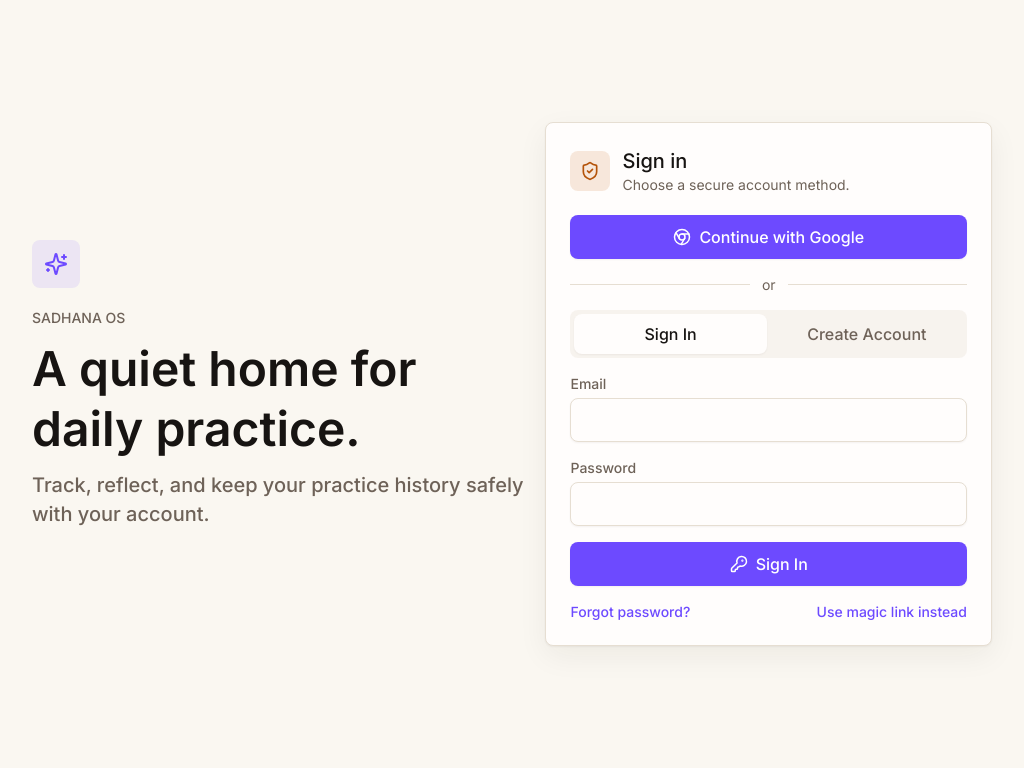
Test: AuthScreen › creates an email/password account and asks for email confirmation
Click the button "Create Account" at x=867, y=334, box x1=771 y1=314 x2=963 y2=354
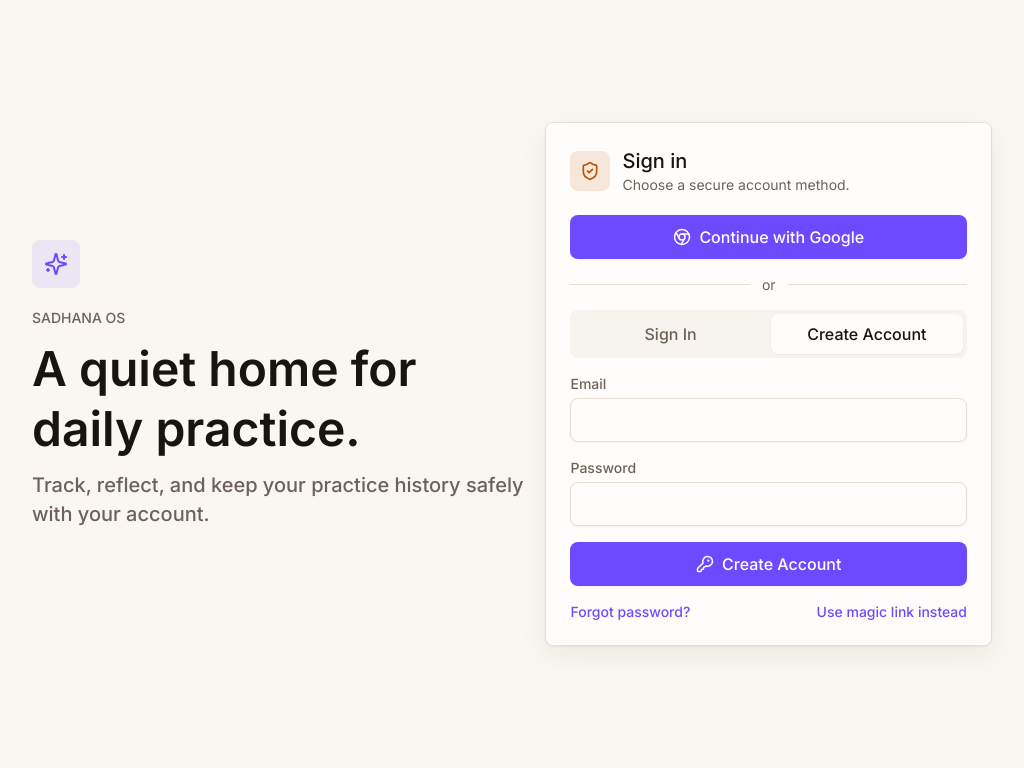
Type "new-practitioner@example.com" into the field labelled "Email" at x=769, y=420, box x1=570 y1=398 x2=967 y2=442
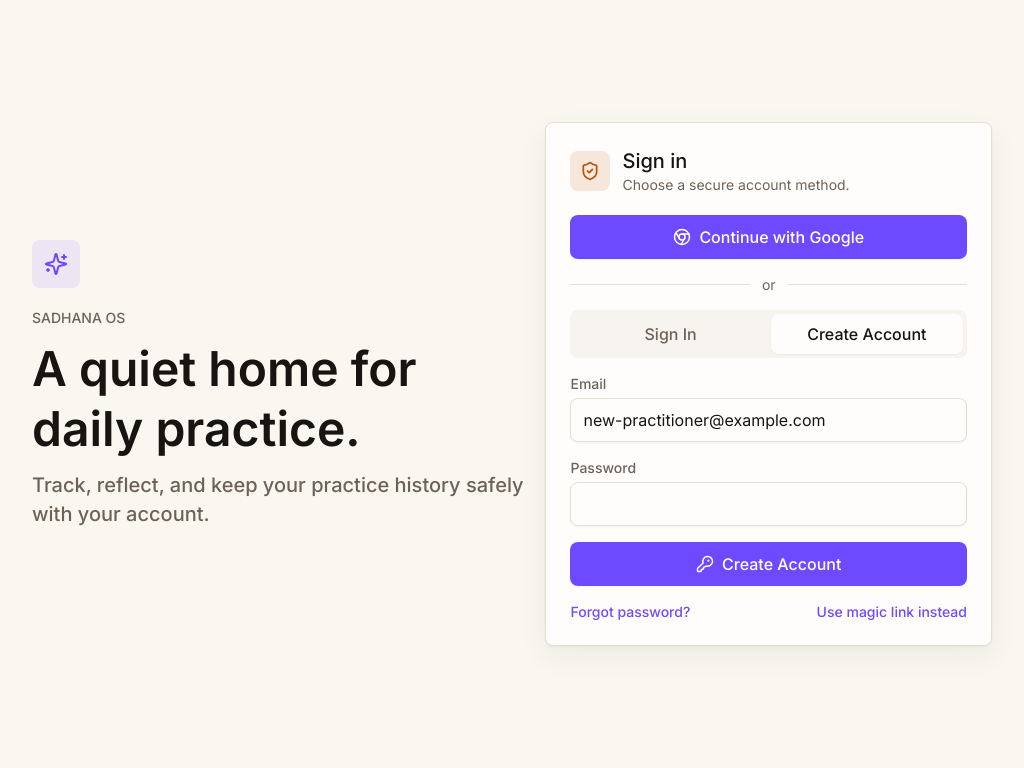
Type "steady-practice-108" into the password field labelled "Password" at x=769, y=504, box x1=570 y1=482 x2=967 y2=526
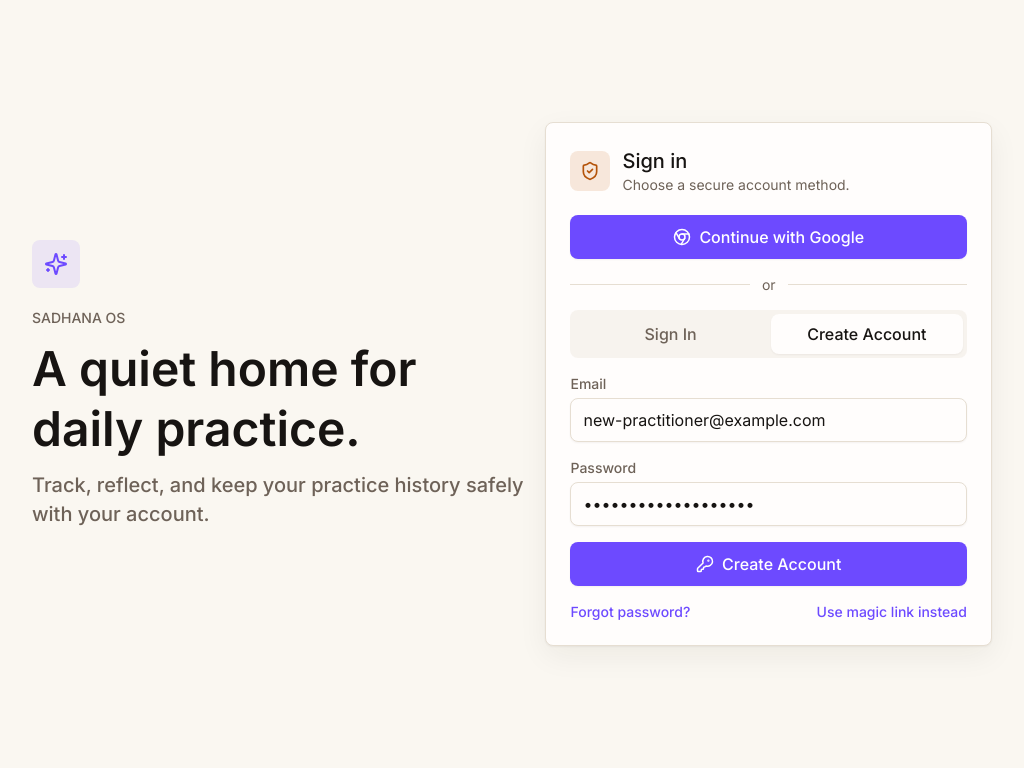
Click the 2nd button "Create Account" at x=769, y=564, box x1=570 y1=542 x2=967 y2=586
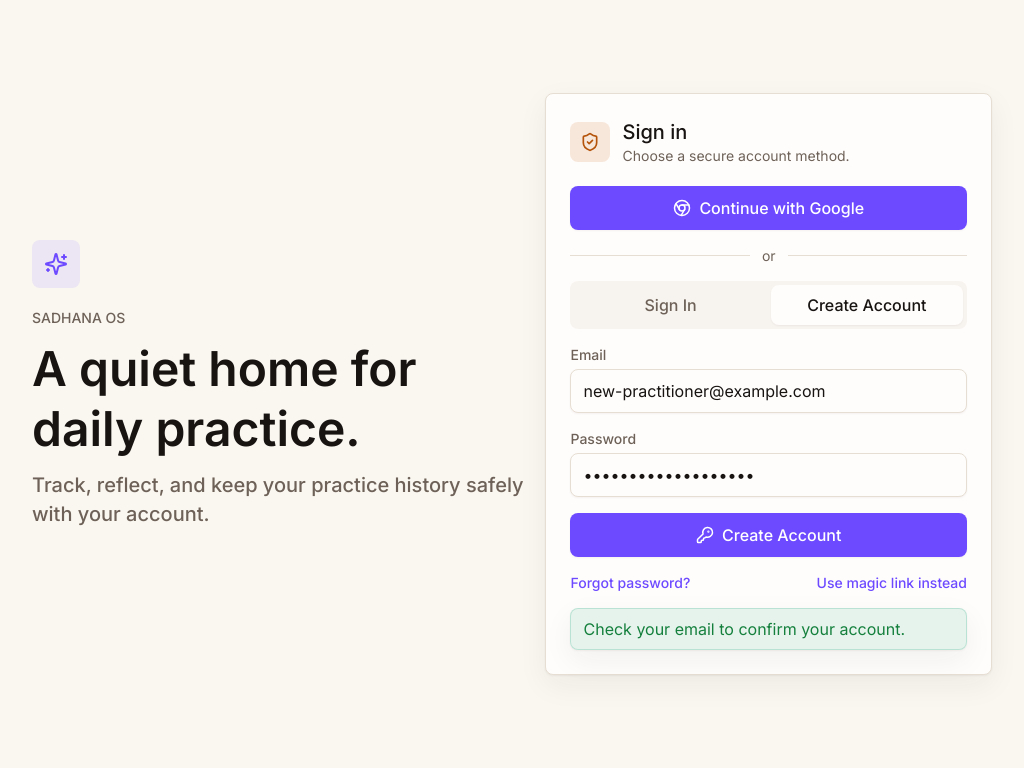
Check: the message reads "Check your email to confirm your account.", box x1=584 y1=619 x2=905 y2=639
